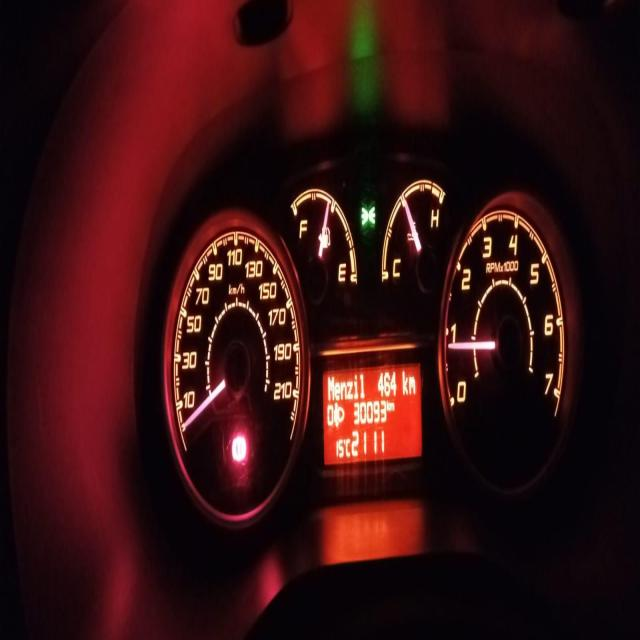odometer: (320, 360, 424, 470)
